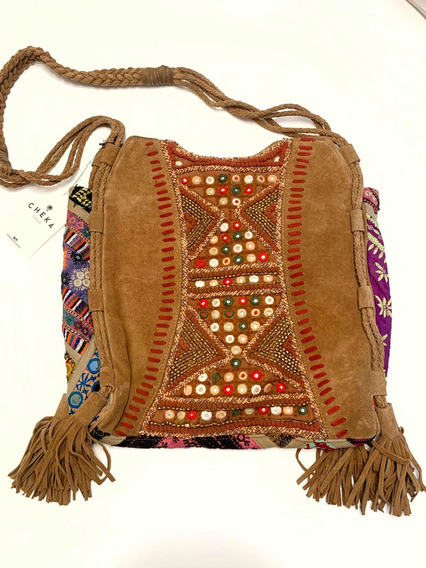cartera: (4, 44, 426, 524)
